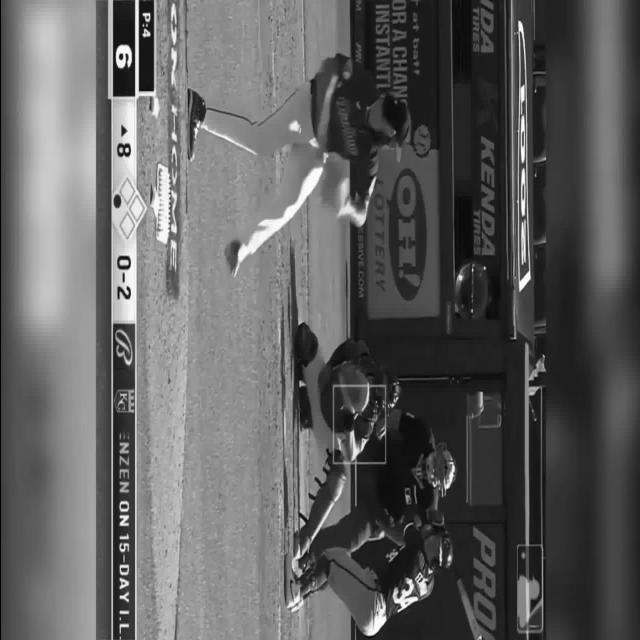baseball_glove: (321, 160, 346, 210), (338, 363, 366, 407)
bat: (454, 574, 482, 640)
shoe: (187, 88, 206, 162), (284, 552, 304, 610), (294, 322, 318, 366), (298, 385, 312, 431), (224, 239, 240, 277), (293, 529, 309, 559), (298, 551, 315, 571)
